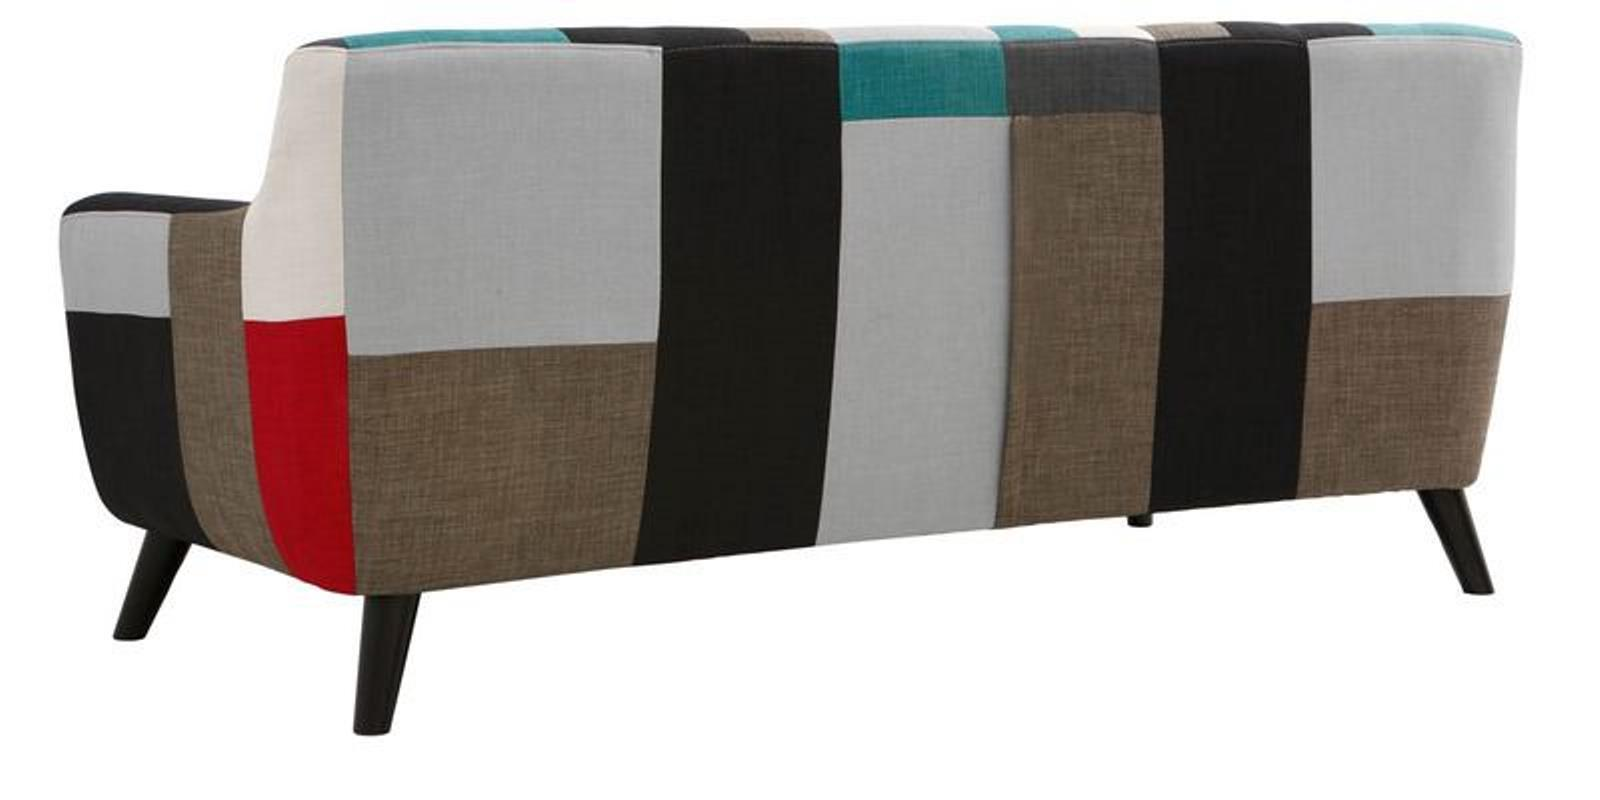Frida Three Seater Sofa in Red Multi Colour by CasaCraft: (31, 16, 1557, 751)
